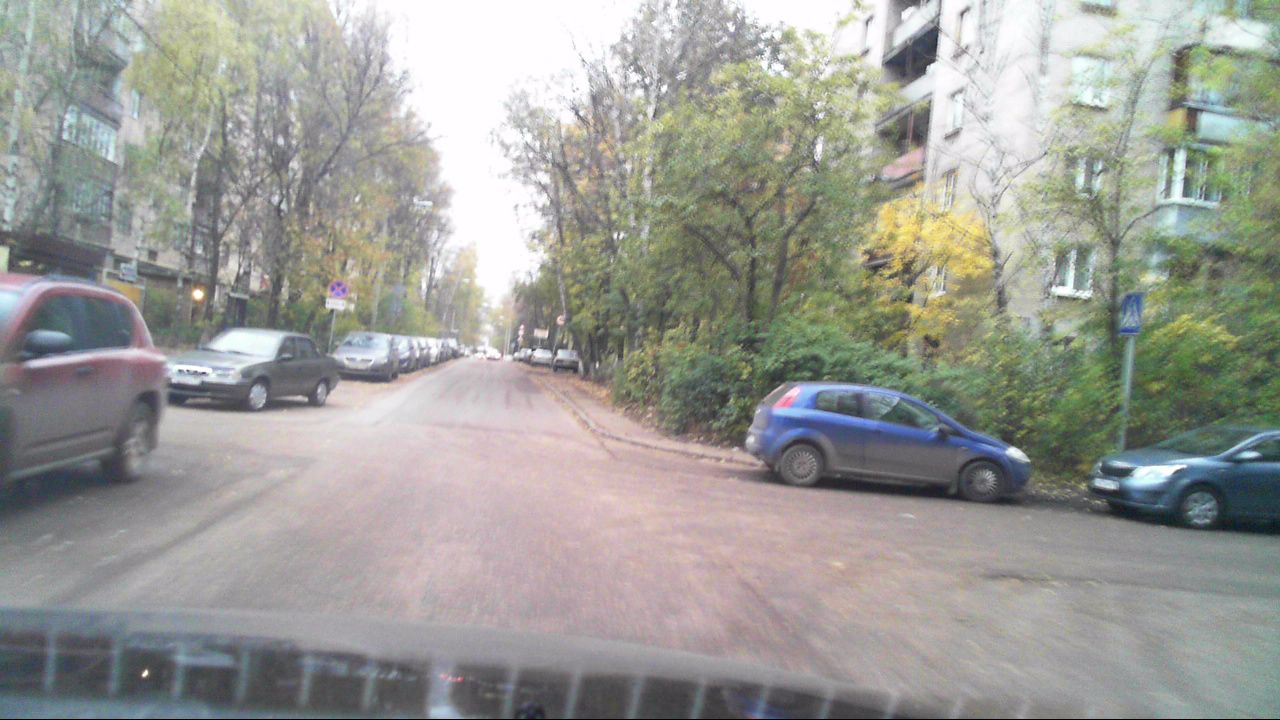No Parking: (328, 280, 346, 297)
